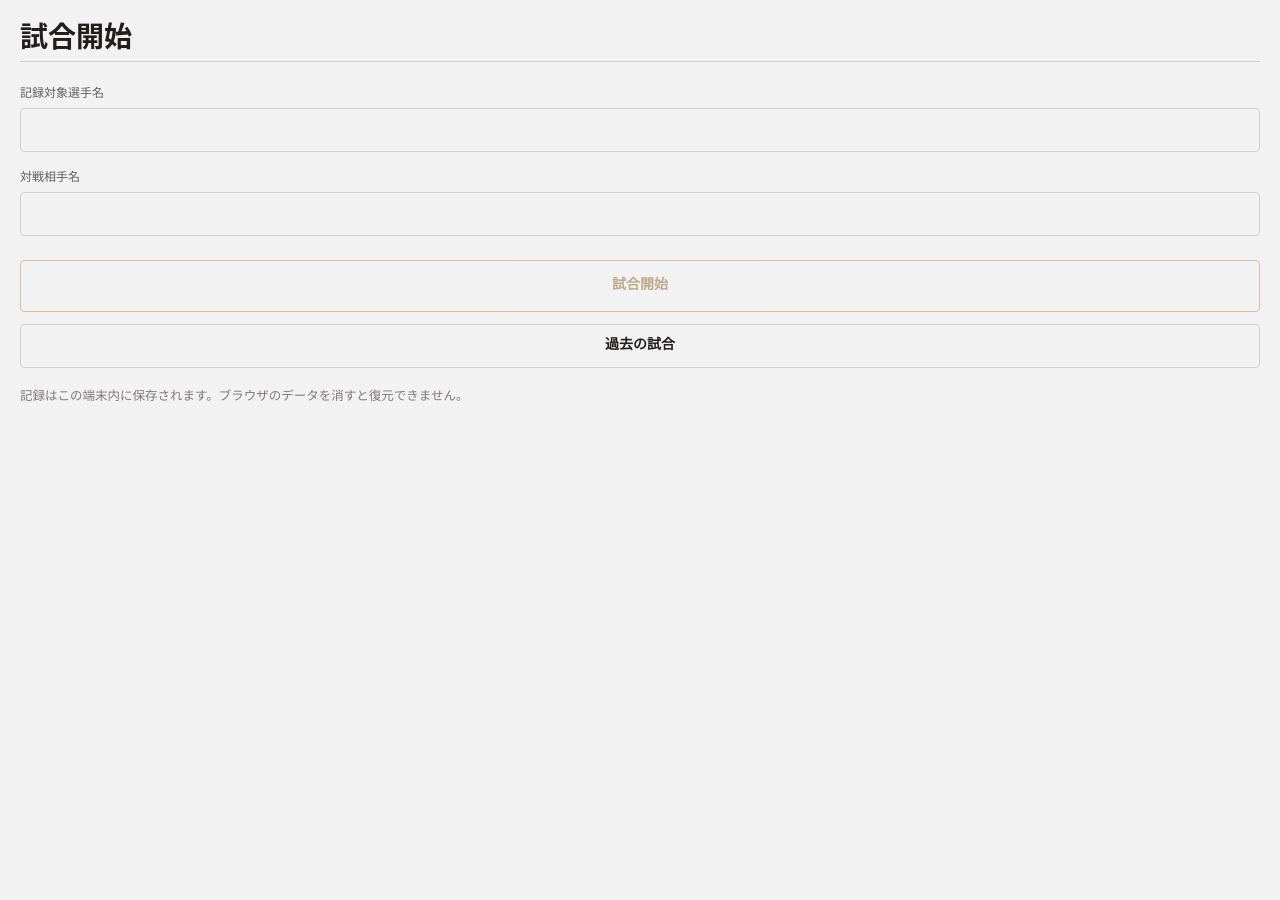
App › starts a match from required names onto the live scoreboard
Expected: the heading "試合開始" is shown, [20, 20, 132, 51]
Type "本田 悠真" into the field labelled "記録対象選手名". click: (640, 130)
box: [20, 108, 1260, 152]
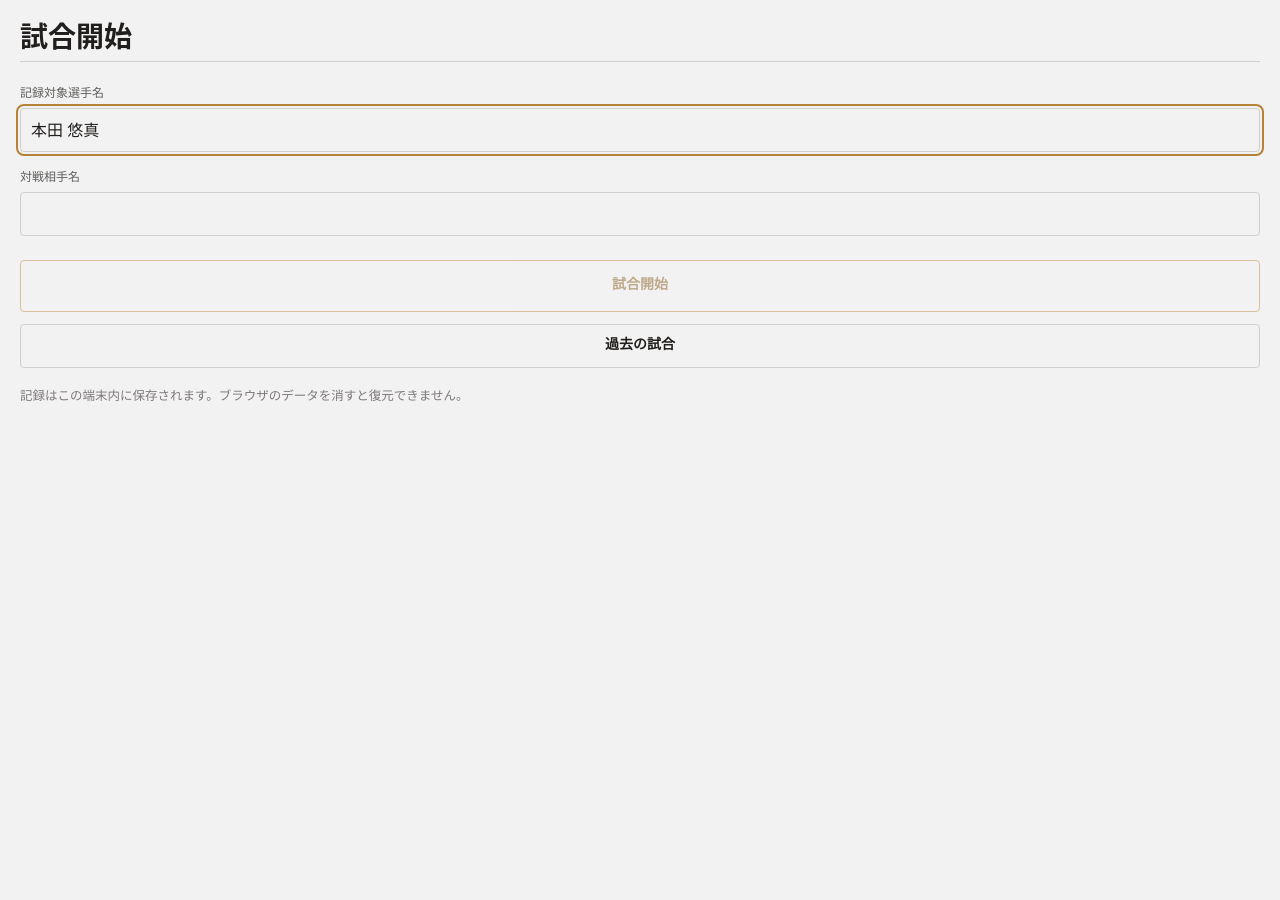
Type "佐々木 蓮" into the field labelled "対戦相手名". click: (640, 214)
box: [20, 192, 1260, 236]
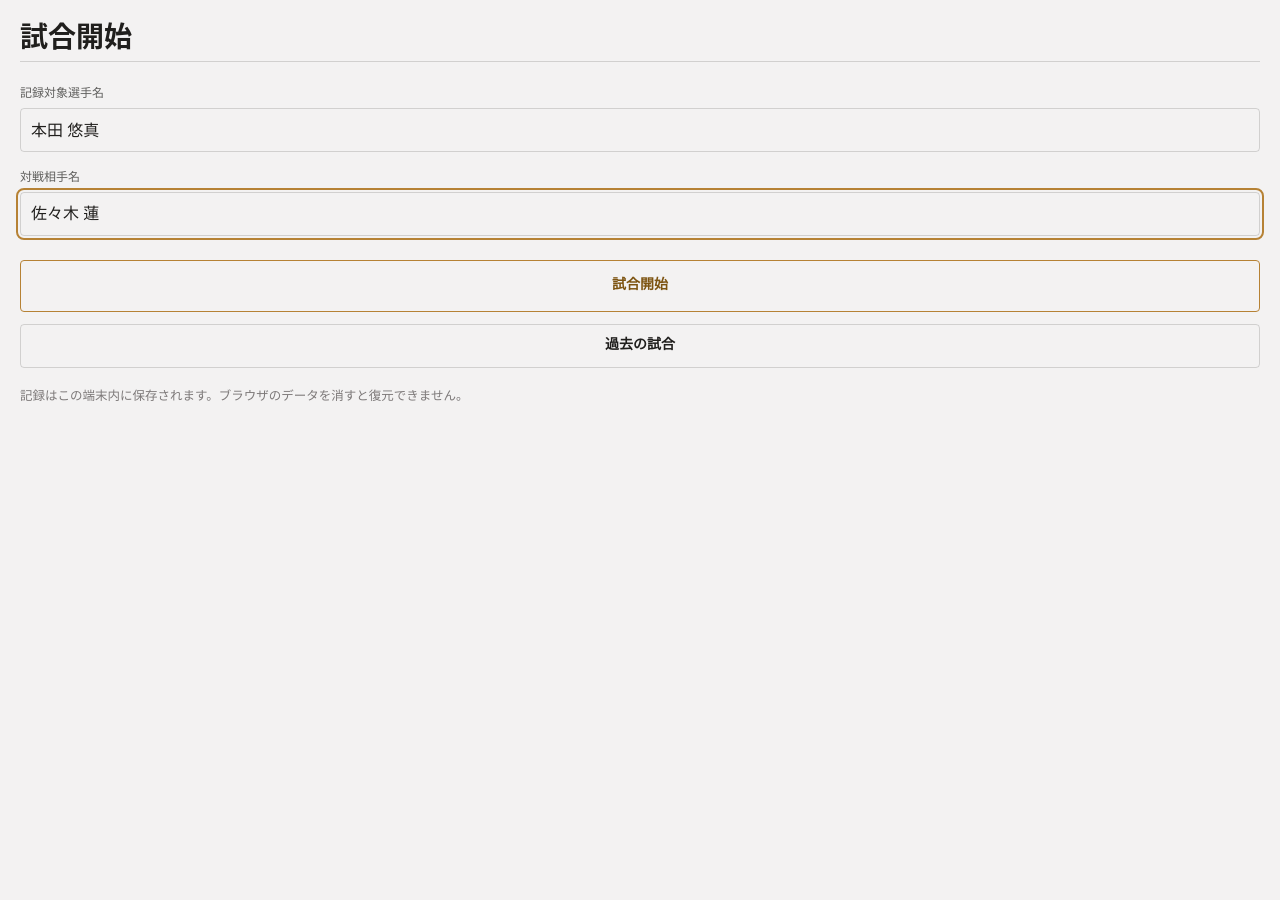
Click the button "試合開始". click: (640, 286)
box: [20, 260, 1260, 312]
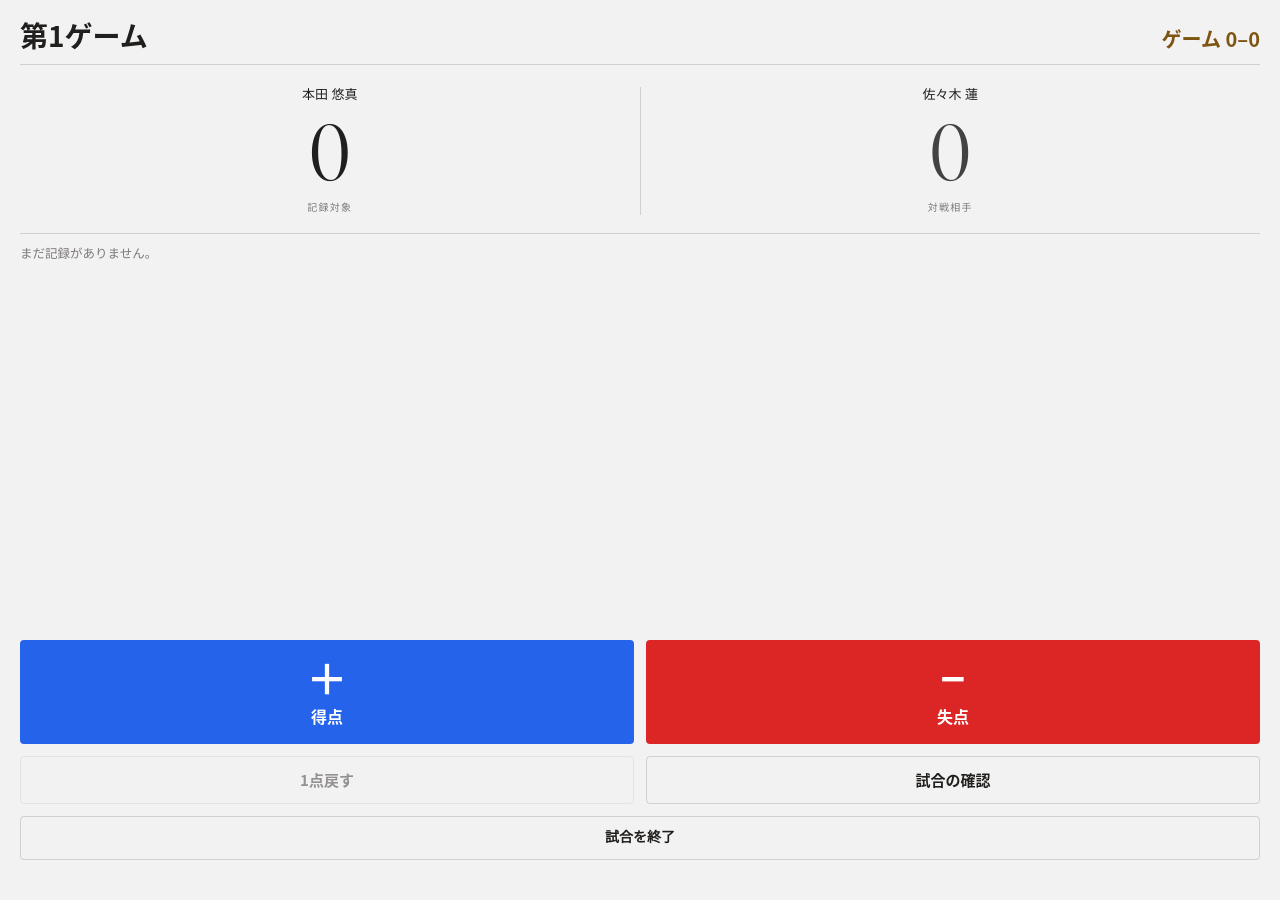
Now the button "＋ 得点" is shown, box [20, 640, 634, 744]
Now the heading "第1ゲーム" is shown, box [20, 20, 148, 51]
Now the text "本田 悠真" is shown, box [302, 87, 357, 104]
